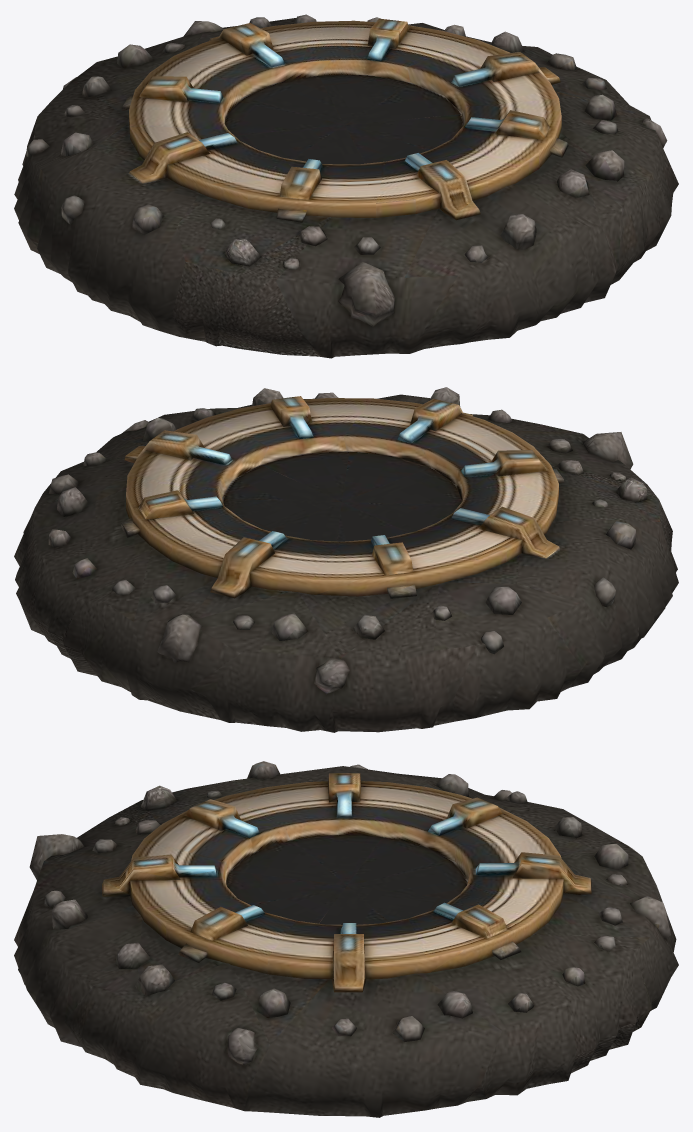
Rendered from moon-landing-low.glb.
The picture shows the model from 3 angles, top to bottom: view 1: azimuth 30°, elevation 25°; view 2: azimuth 150°, elevation 25°; view 3: azimuth 270°, elevation 25°; orthographic projection.
Visible parts, largest first — view 1: tripo_node_7c052cba-d41c-4091-bd69-bcf74925c56d; view 2: tripo_node_7c052cba-d41c-4091-bd69-bcf74925c56d; view 3: tripo_node_7c052cba-d41c-4091-bd69-bcf74925c56d.
Part boxes in pixels (bbox=[...]): tripo_node_7c052cba-d41c-4091-bd69-bcf74925c56d: bbox=[14, 14, 678, 358]; tripo_node_7c052cba-d41c-4091-bd69-bcf74925c56d: bbox=[14, 387, 678, 732]; tripo_node_7c052cba-d41c-4091-bd69-bcf74925c56d: bbox=[14, 761, 678, 1117].
Size of the model in its own units: 1 by 0.2094 by 1.
Materials: 1 (1 with a texture image).
